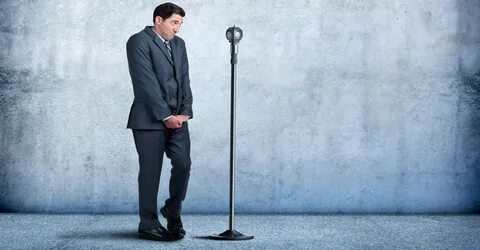awake: (125, 2, 194, 242)
